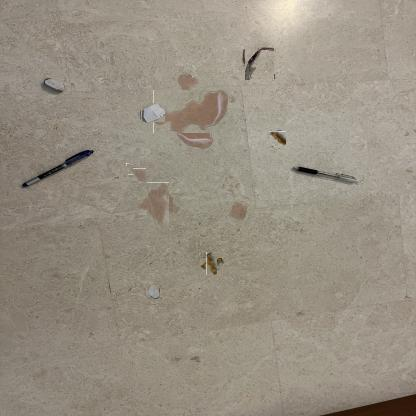dirty: (243, 48, 275, 80), (141, 102, 165, 122), (203, 255, 221, 272), (269, 131, 286, 147), (146, 286, 160, 299)
liquid: (161, 82, 221, 141), (142, 188, 175, 220), (229, 202, 247, 220), (132, 168, 146, 181), (226, 179, 237, 191), (229, 94, 237, 102), (127, 174, 133, 177), (126, 163, 129, 166)
